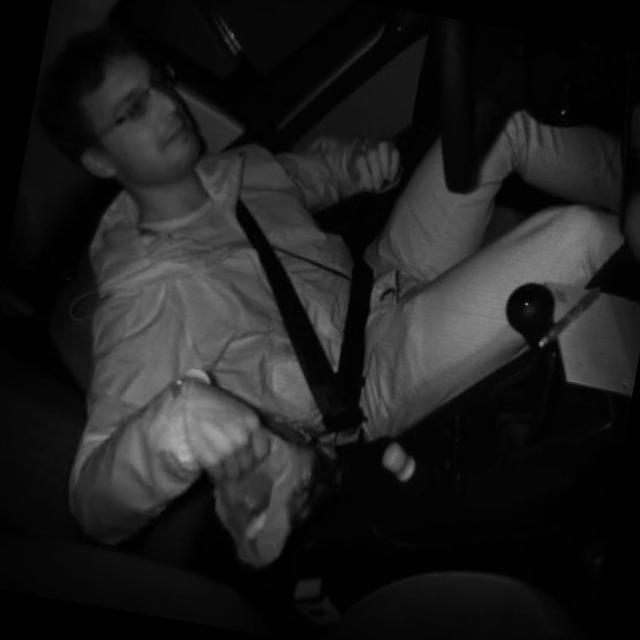pen: (534, 272, 606, 358)
